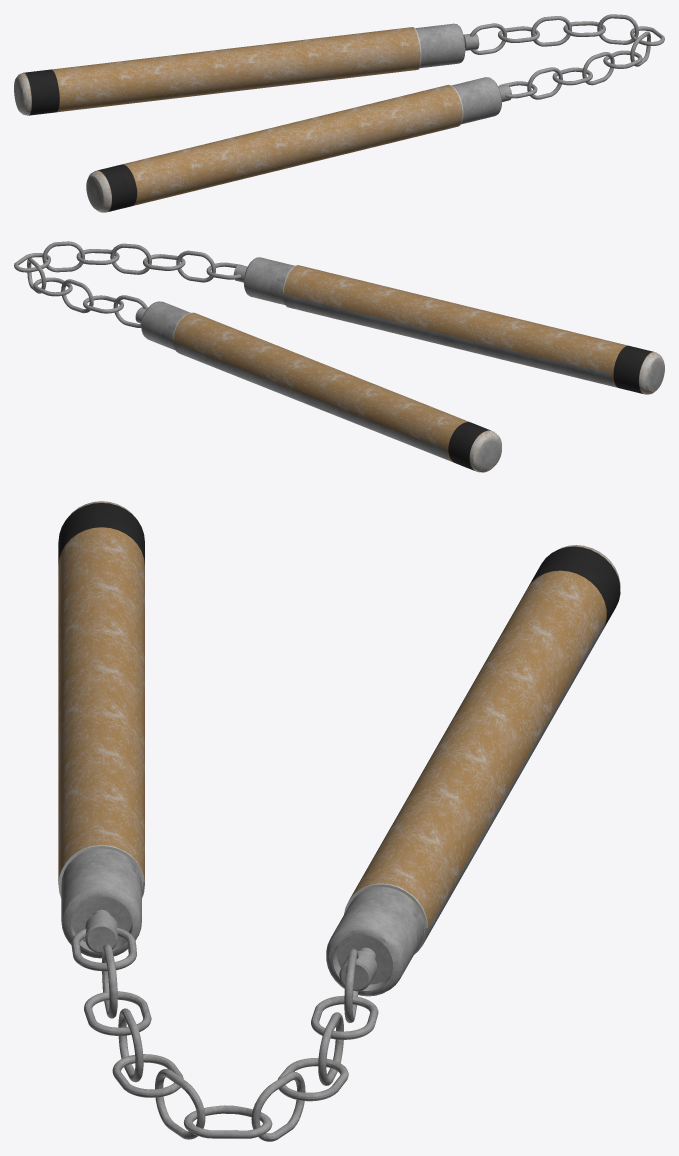
File: w_staff__nunchaki.glb
3 views of the same model, one above another, from view 1: azimuth 30°, elevation 25°; view 2: azimuth 150°, elevation 25°; view 3: azimuth 270°, elevation 25° (orthographic). The views are drawn at different scales.
Visible parts, largest first — view 1: 1_Material.001_0; view 2: 1_Material.001_0; view 3: 1_Material.001_0.
Part boxes in pixels (box(x1,y1,x2,y2)): 1_Material.001_0: box(14, 14, 664, 212); 1_Material.001_0: box(14, 241, 664, 472); 1_Material.001_0: box(58, 501, 620, 1141).
Bounding box in the file's own units: 3.5 × 0.2375 × 1.42.
Materials: 1 (1 with a texture image).
